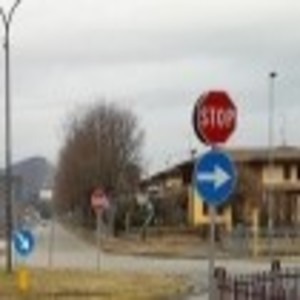trun_right: (193, 149, 236, 204)
